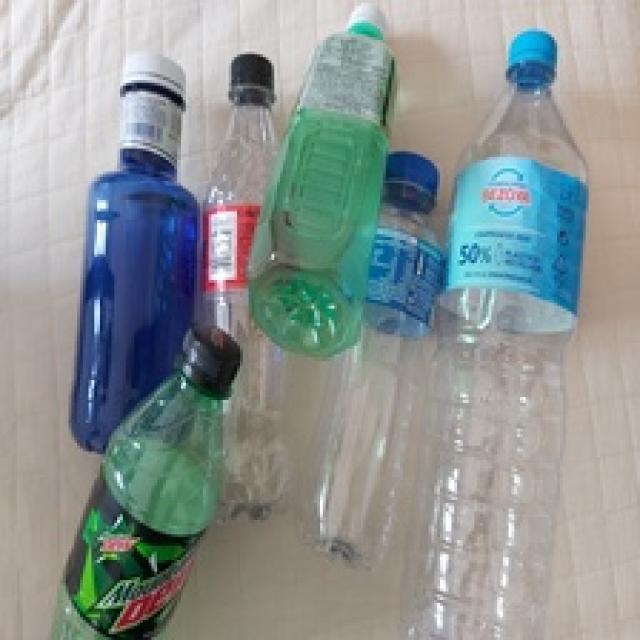Plastic: (411, 27, 589, 640), (302, 148, 448, 564), (58, 321, 239, 640), (244, 0, 399, 362), (71, 52, 198, 450), (208, 51, 294, 518)
